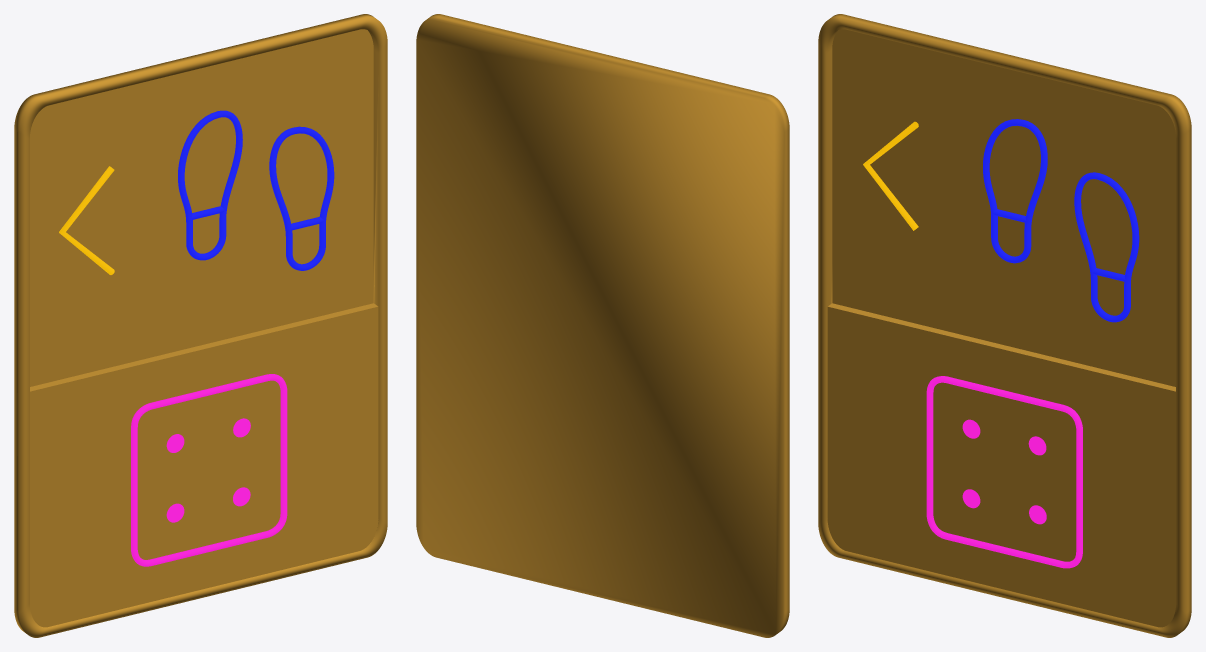
Rendered from CardMoveLeft.glb.
3 renders of one model, left to right at view 1: azimuth 30°, elevation 25°; view 2: azimuth 150°, elevation 25°; view 3: azimuth 330°, elevation 25°, orthographic.
Parts seen in each view (by area): view 1: Cube, Curve.008, Curve, Curve.001, Curve.004; view 2: Cube; view 3: Cube, Curve.008, Curve.001, Curve, Curve.004.
Part boxes in pixels (x1,y1,x2,y2): Cube: (14, 14, 387, 637); Curve.008: (131, 374, 287, 566); Curve: (178, 110, 242, 260); Curve.001: (269, 126, 334, 270); Curve.004: (59, 166, 114, 274); Cube: (416, 14, 789, 637); Cube: (818, 14, 1191, 637); Curve.008: (926, 376, 1082, 568); Curve.001: (1074, 172, 1139, 322); Curve: (983, 119, 1047, 263); Curve.004: (863, 121, 918, 230).
Size of the model in its own units: 5 by 7 by 0.2.
